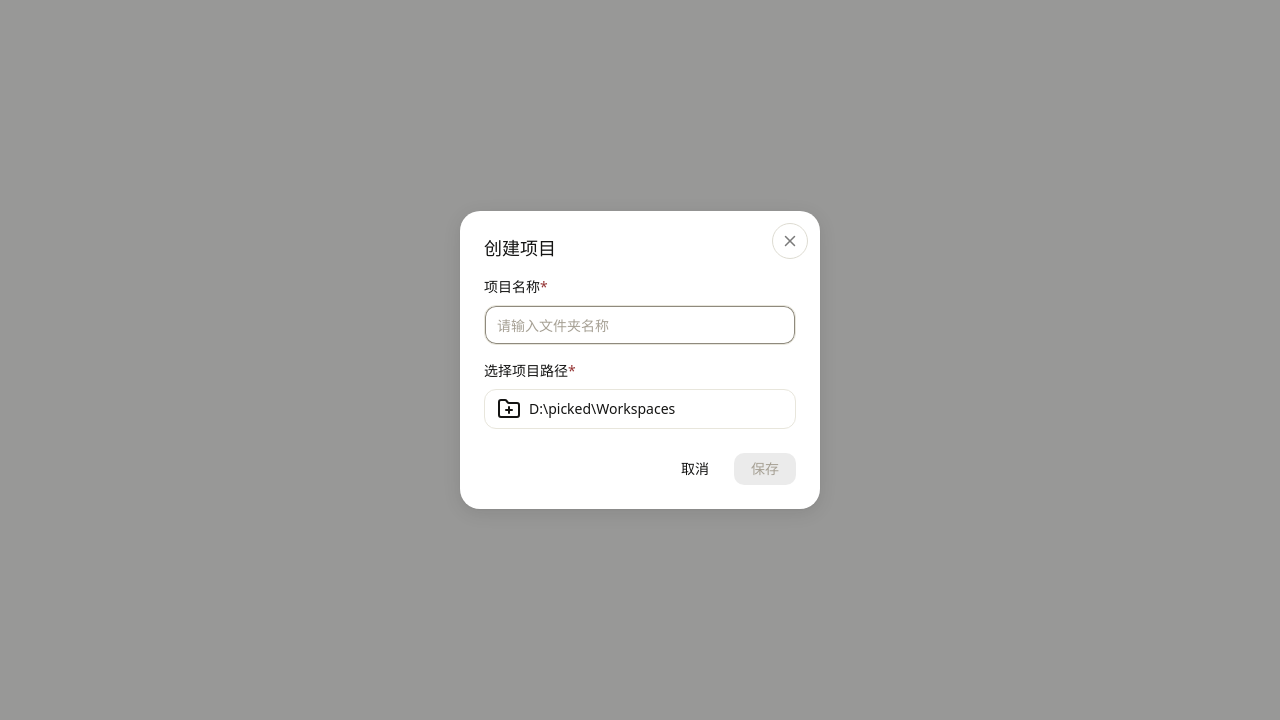
Test: CreateProjectDialog › 保存失败（重复路径 / 路径校验）：行内给原因、不关框、不回调
expect the text with test id "project-path-value" reads "D:\\picked\\Workspaces": met, box [529,399,675,418]
Type "插件" into the field with test id "project-name-input" at (640, 325), box [484,305,796,345]
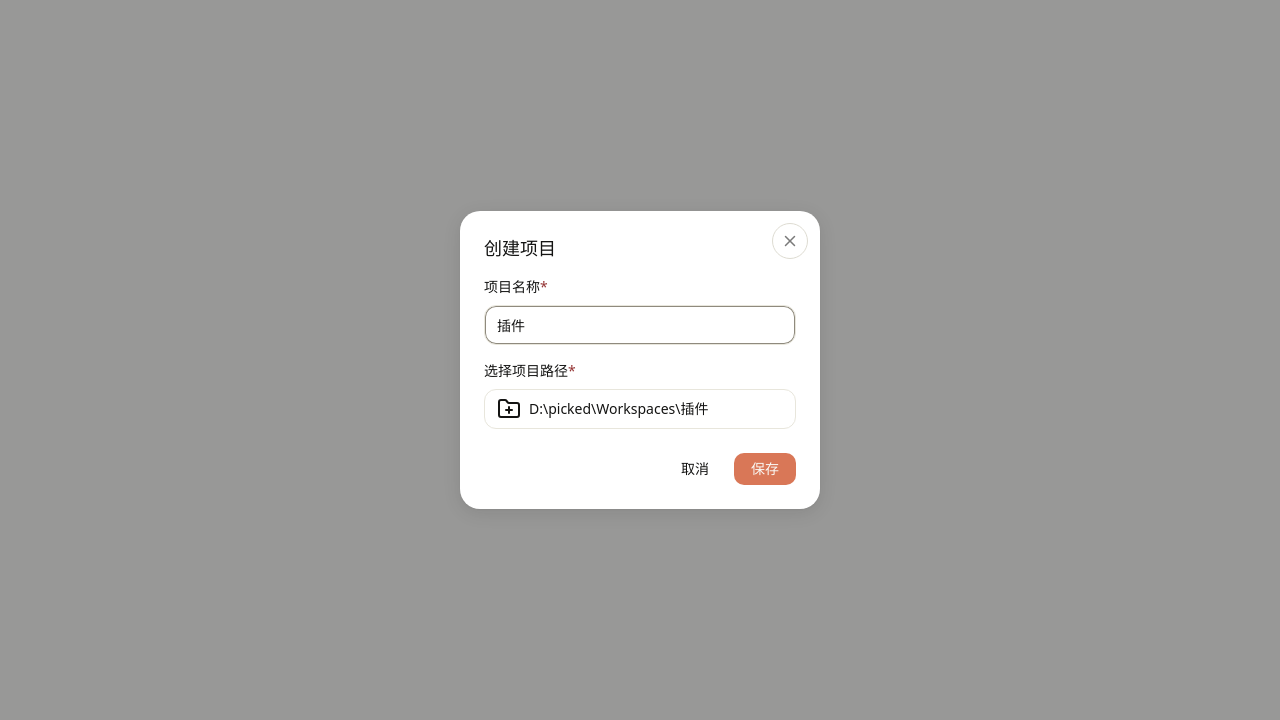
Click the button with test id "project-create-save" at (765, 469), box [734,453,796,485]
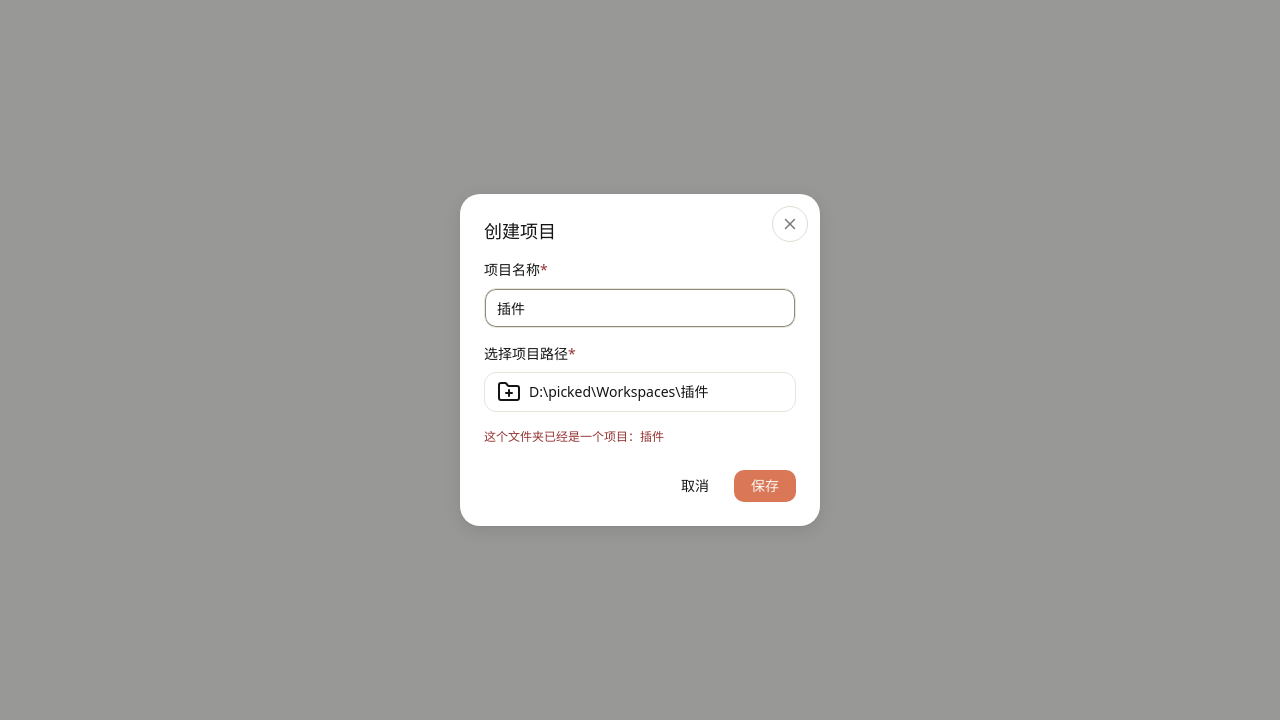
expect the text with test id "project-create-error" shows "已经是一个项目": met, box [484,428,664,445]
